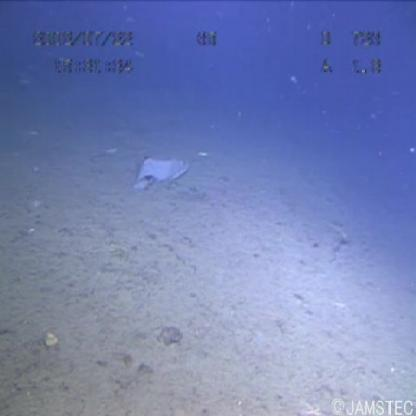Rác: (131, 155, 200, 192)
